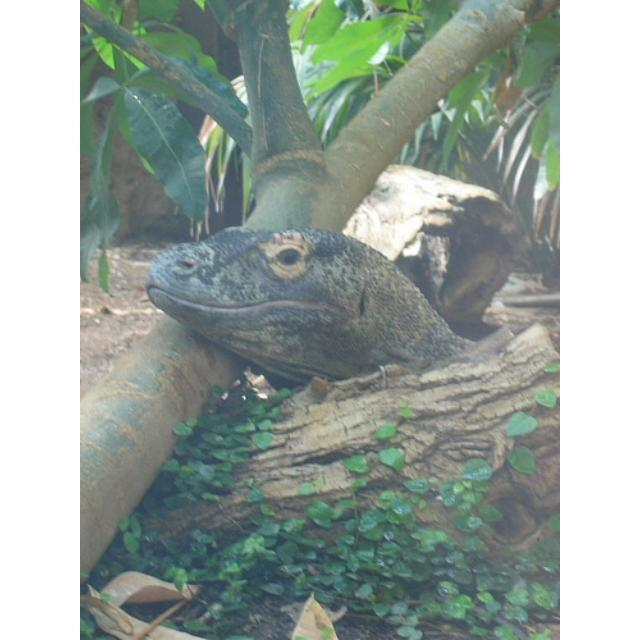KomodoDragon: (140, 220, 485, 380)
